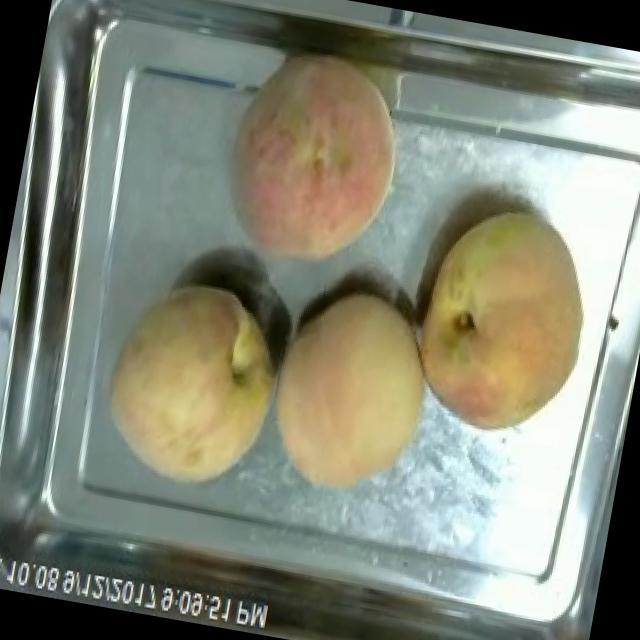Fruit: (390, 188, 616, 450), (207, 37, 423, 289), (81, 262, 300, 509), (248, 269, 454, 513)
